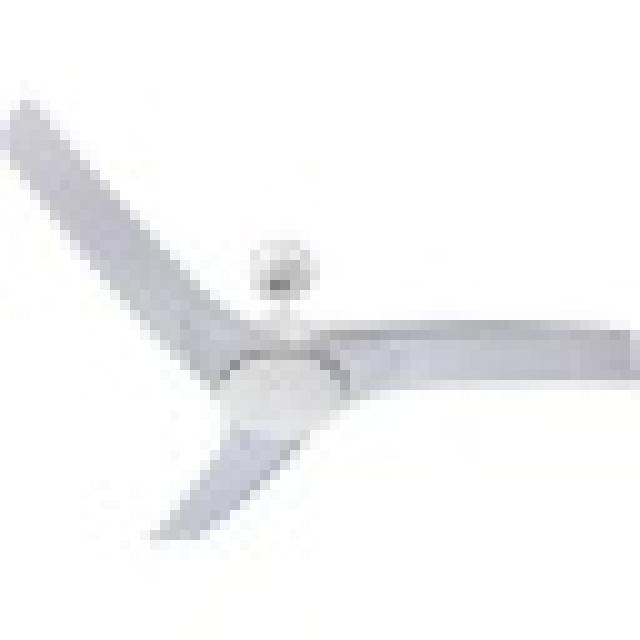Bulb: (7, 82, 640, 546)
